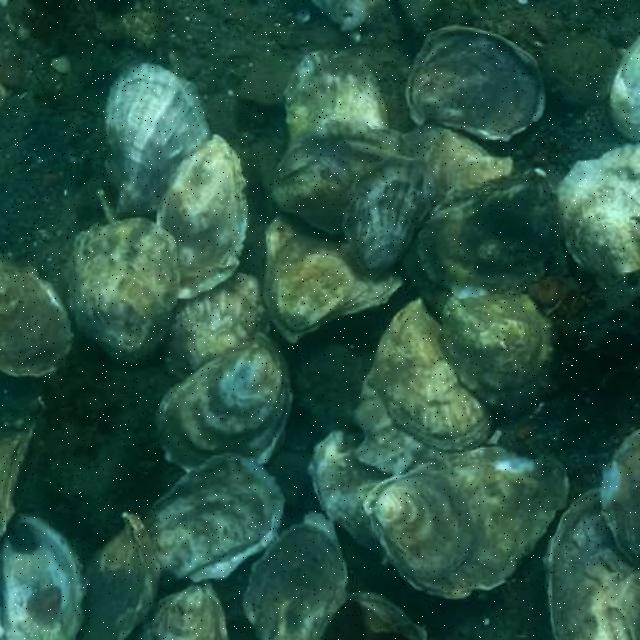Oyster-Closed: (363, 446, 569, 596), (153, 334, 293, 474), (416, 167, 566, 294), (375, 297, 497, 452), (266, 211, 408, 342), (145, 458, 286, 582), (106, 63, 214, 223), (66, 219, 180, 369), (405, 26, 545, 144), (272, 122, 417, 235), (157, 136, 251, 300), (544, 488, 640, 640), (444, 291, 561, 411), (243, 512, 347, 640), (161, 271, 269, 381), (343, 157, 438, 276), (77, 512, 163, 640), (354, 368, 455, 475), (557, 145, 640, 273), (310, 431, 395, 555), (408, 124, 515, 216), (282, 52, 390, 142), (0, 256, 72, 378), (128, 584, 230, 640), (601, 430, 640, 572), (324, 592, 425, 640), (0, 428, 31, 542), (608, 38, 640, 143), (311, 0, 383, 30)
